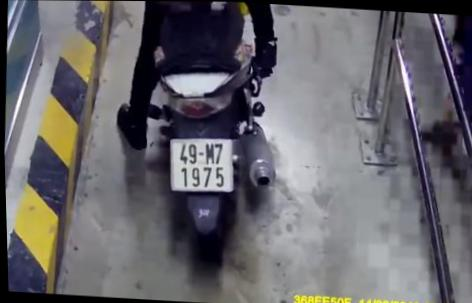LP: (165, 134, 236, 194)
